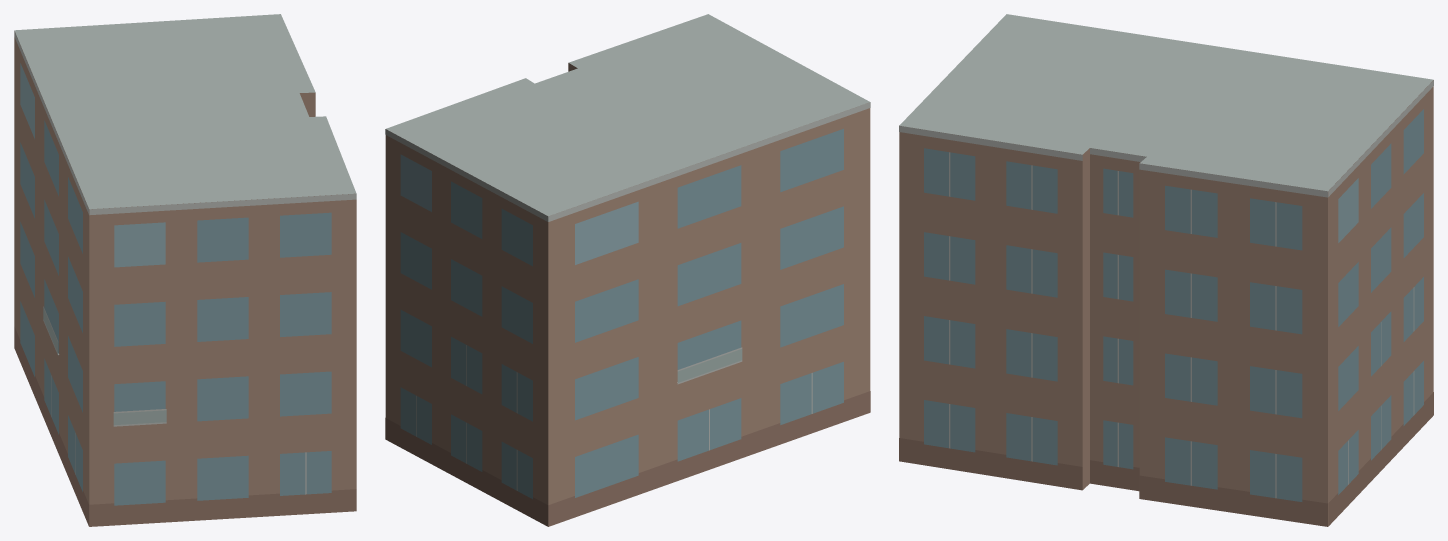
File: survey-upis-32527660.glb
3 renders of one model, left to right at view 1: azimuth 30°, elevation 25°; view 2: azimuth 150°, elevation 25°; view 3: azimuth 270°, elevation 25°, orthographic. The views are drawn at different scales.
Parts seen in each view (by area): view 1: survey-upis-32527660.tmp; view 2: survey-upis-32527660.tmp; view 3: survey-upis-32527660.tmp.
Boxes of the visible parts, x1,y1,x2,y2 form: survey-upis-32527660.tmp: (14, 14, 356, 526); survey-upis-32527660.tmp: (385, 14, 870, 526); survey-upis-32527660.tmp: (899, 14, 1433, 526).
Size of the model in its own units: 14.74 by 13 by 18.78.
